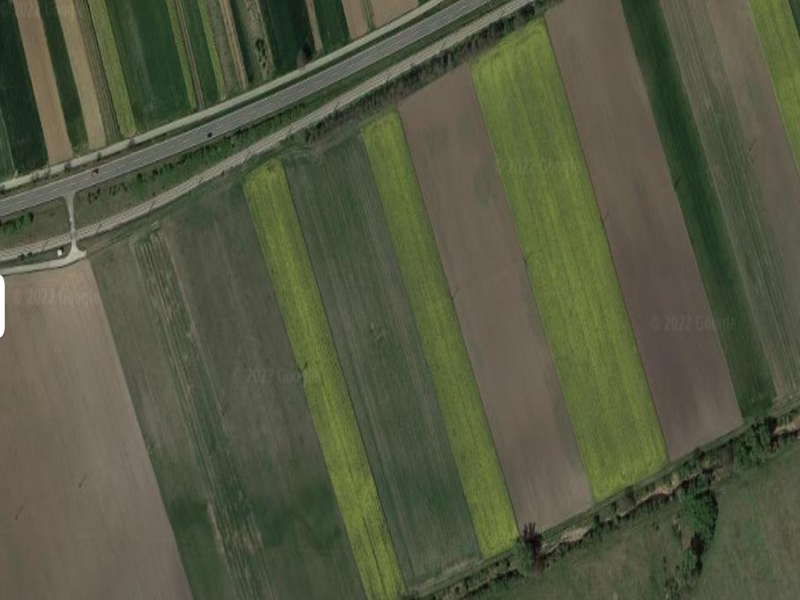field: (469, 17, 672, 503)
